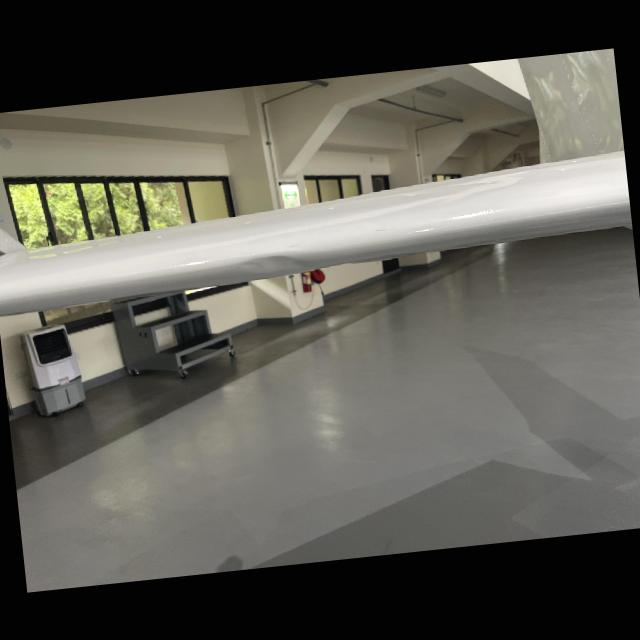dent: (230, 246, 310, 280)
